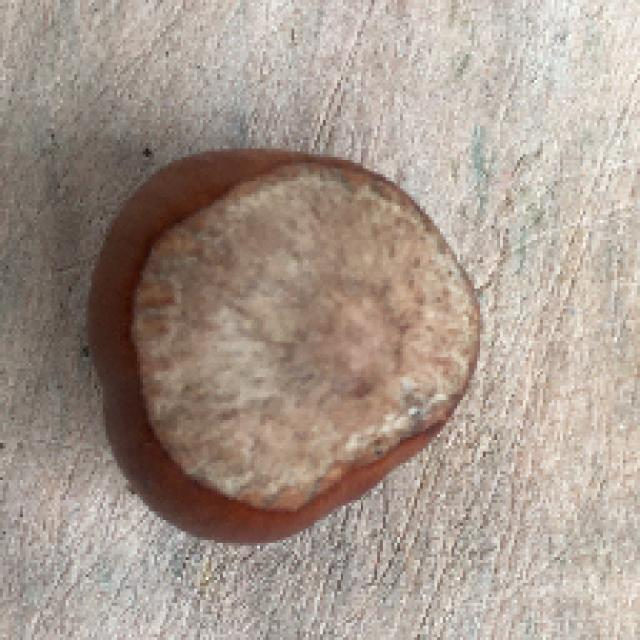qualityHazelnut: (75, 143, 489, 554)
